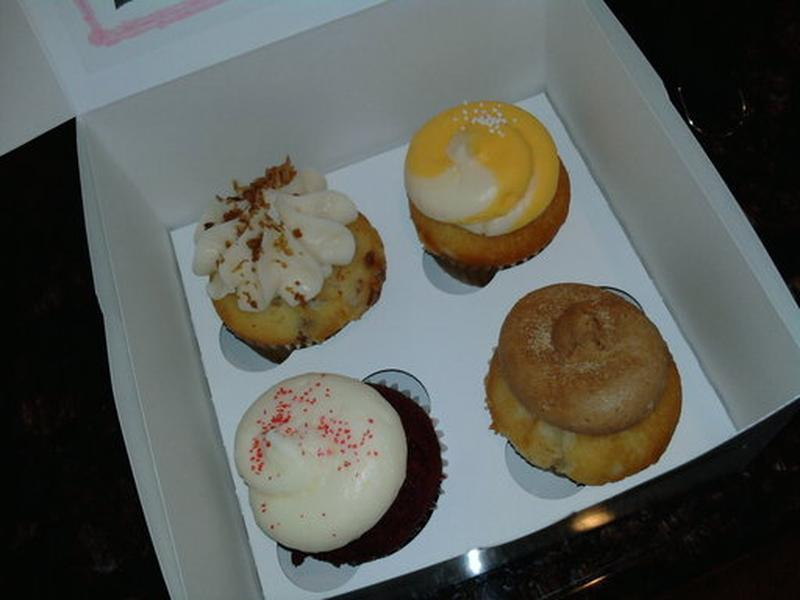cup_cake: (185, 111, 628, 588)
